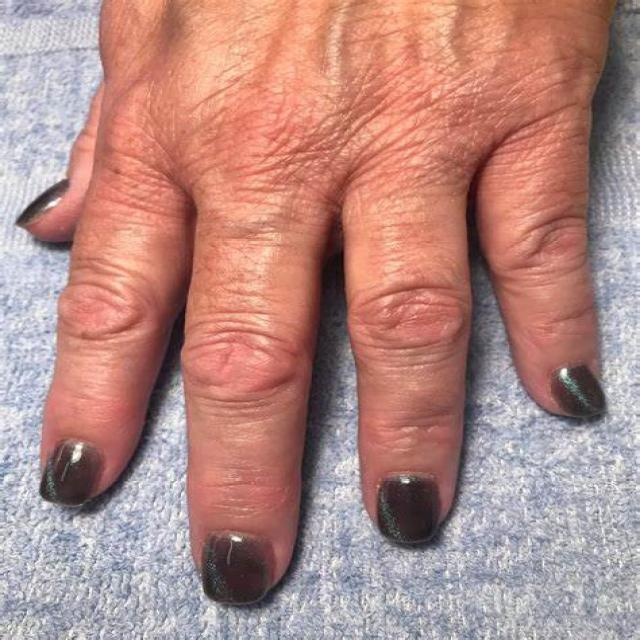Fingernail: (202, 532, 273, 605), (378, 475, 439, 543), (41, 440, 102, 506), (551, 366, 605, 418), (17, 181, 68, 224)
